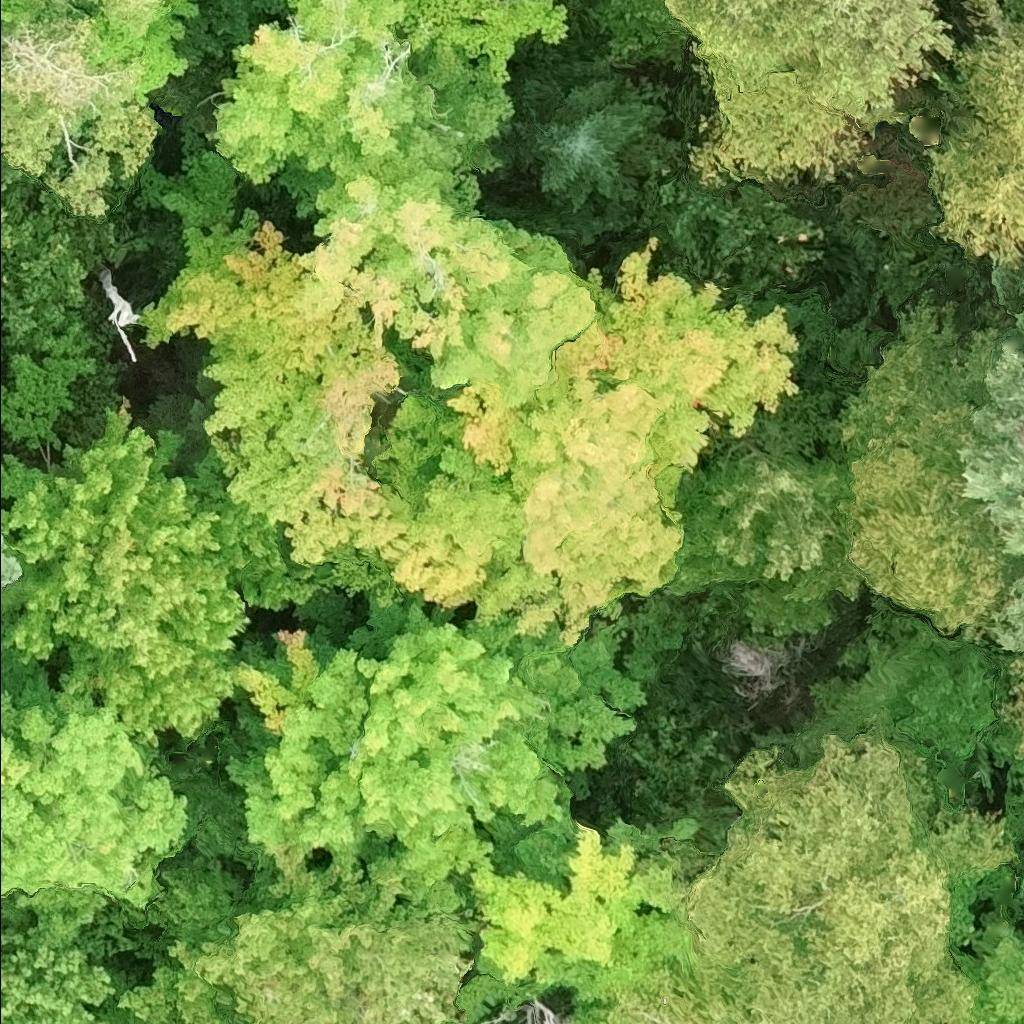crown: (371, 237, 802, 643), (220, 598, 652, 915), (601, 731, 1017, 1023), (0, 397, 327, 748), (133, 206, 413, 572), (290, 128, 601, 409), (822, 285, 1023, 640), (207, 0, 516, 223), (113, 853, 485, 1023), (657, 0, 956, 190), (456, 809, 705, 1023), (0, 670, 192, 914), (660, 420, 861, 640), (487, 38, 671, 247), (0, 12, 159, 219), (923, 0, 1023, 265), (949, 299, 1023, 558), (0, 185, 104, 349), (396, 0, 570, 95), (0, 923, 118, 1023), (135, 852, 248, 944), (0, 887, 115, 950), (968, 911, 1023, 1023), (30, 0, 172, 35), (990, 574, 1023, 659), (0, 529, 28, 594), (962, 0, 1013, 35), (0, 0, 34, 41), (0, 198, 18, 261)
